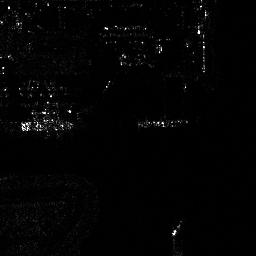ship: (18, 119, 75, 132)
